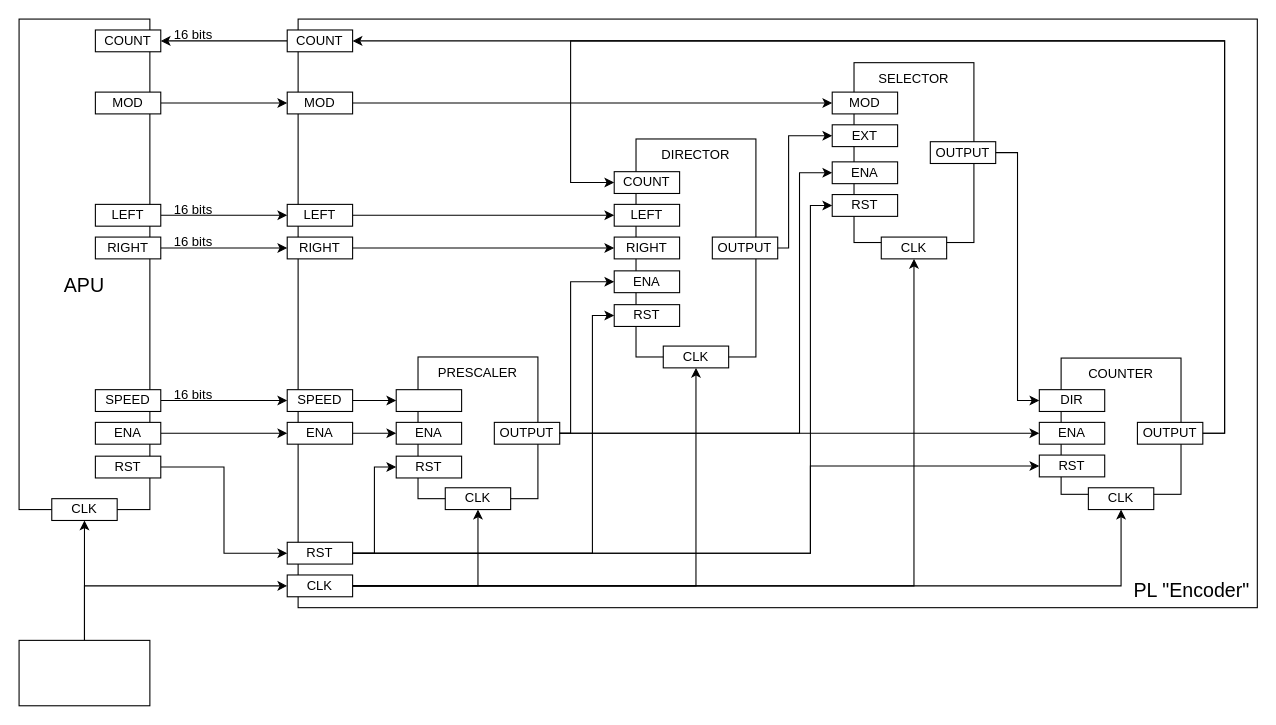
This 1276x725 diagram has some shape labels left out. Each missing label, with the centre of its shape:
"DIV" belongs at (428,400).
"XTAL 50MHz" belongs at (84,672).
